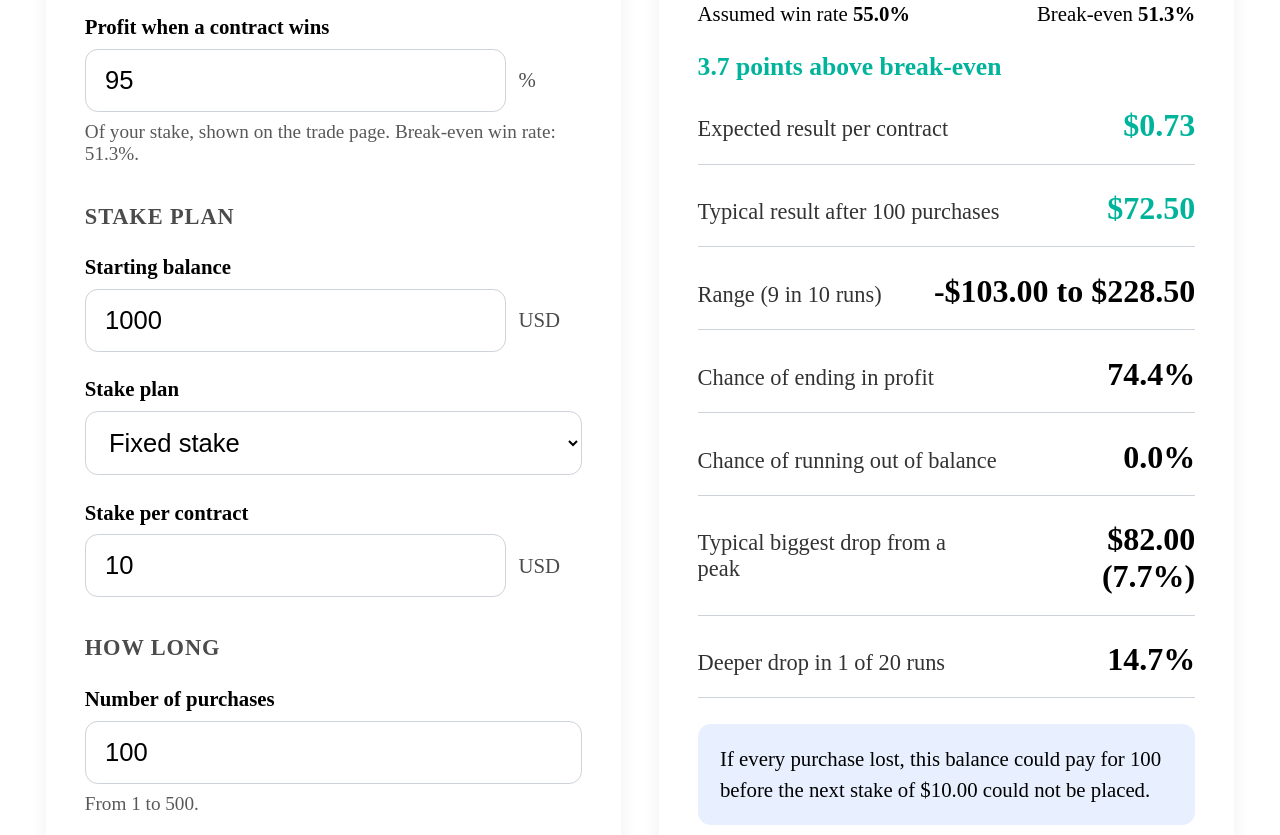
Test: <WhatIfCalculator /> › says how many losses in a row the plan can pay for
(page scrolled)
Expected: the text with test id "dt_whatif_survives" shows "pay for 100", [720,747,1161,801]
Select "Martingale: multiply after a loss" in the dropdown with test id "dt_whatif_plan" at (334, 443), box [85,411,582,475]
(page scrolled)
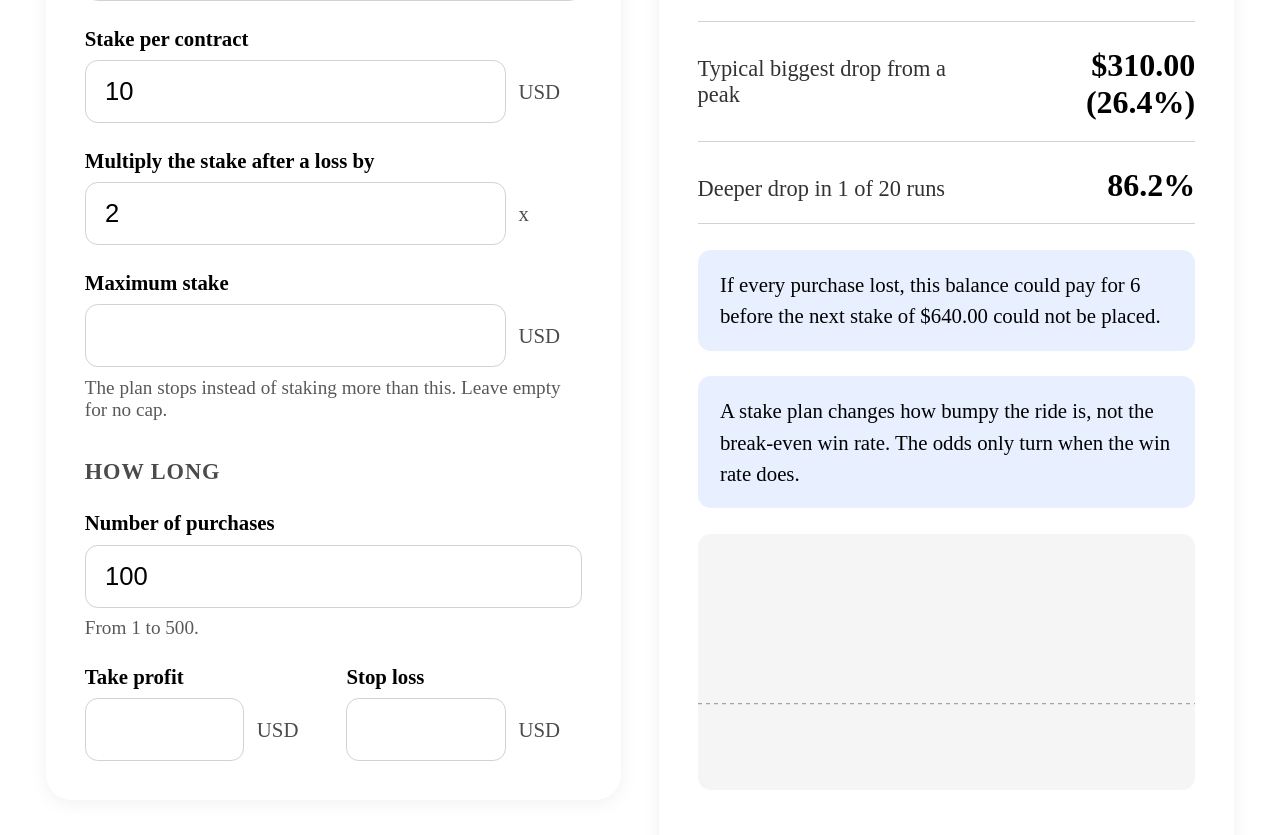
Result: the text with test id "dt_whatif_survives" shows "pay for 6" at [720,273,1161,327]
Result: the text with test id "dt_whatif_survives" shows "640" at [720,273,1161,327]
Result: the text with test id "dt_whatif_plan_note" is shown at [698,376,1195,508]
